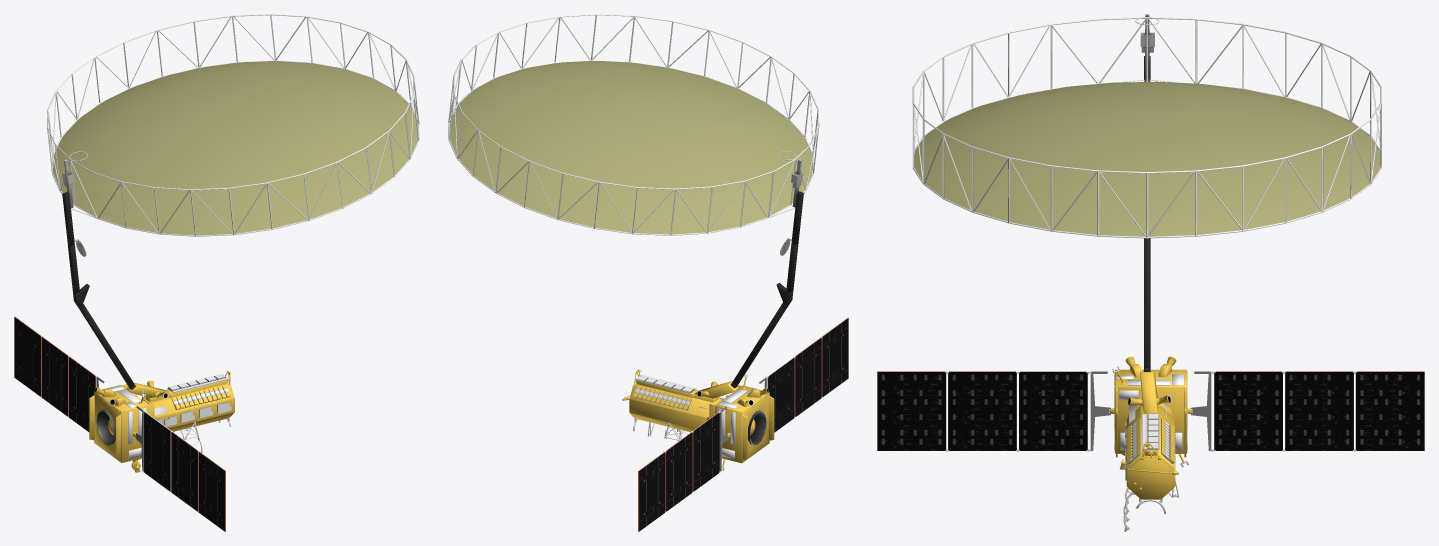
The model's file is nisar.glb.
3 renders of one model, left to right at view 1: azimuth 30°, elevation 25°; view 2: azimuth 150°, elevation 25°; view 3: azimuth 270°, elevation 25°, orthographic. The views are drawn at different scales.
Parts seen in each view (by area): view 1: antenna_mesh_bottom, Left_panel_1, antenna_railing, BUS, Arm, antenna_base, BUS_instruments, BUS.009; view 2: antenna_mesh_bottom, Left_panel_1, antenna_railing, BUS, Arm, antenna_base, BUS_instruments, BUS.009, Left_panel_2; view 3: antenna_mesh_bottom, BUS_instruments, antenna_railing, BUS, BUS.009, Arm.
Boxes of the visible parts, x1=… form: antenna_mesh_bottom: x1=53, y1=61, x2=418, y2=235; Left_panel_1: x1=14, y1=317, x2=225, y2=531; antenna_railing: x1=47, y1=14, x2=419, y2=377; BUS: x1=40, y1=335, x2=234, y2=512; Arm: x1=62, y1=192, x2=135, y2=389; antenna_base: x1=62, y1=159, x2=231, y2=445; BUS_instruments: x1=167, y1=374, x2=230, y2=410; BUS.009: x1=106, y1=385, x2=146, y2=458; antenna_mesh_bottom: x1=449, y1=61, x2=812, y2=234; Left_panel_1: x1=639, y1=318, x2=848, y2=531; antenna_railing: x1=448, y1=14, x2=819, y2=472; BUS: x1=622, y1=336, x2=822, y2=512; Arm: x1=730, y1=191, x2=803, y2=388; antenna_base: x1=748, y1=159, x2=803, y2=445; BUS_instruments: x1=633, y1=375, x2=696, y2=410; BUS.009: x1=717, y1=388, x2=758, y2=459; Left_panel_2: x1=638, y1=317, x2=848, y2=531; antenna_mesh_bottom: x1=914, y1=81, x2=1380, y2=236; BUS_instruments: x1=877, y1=371, x2=1424, y2=464; antenna_railing: x1=912, y1=17, x2=1381, y2=451; BUS: x1=945, y1=356, x2=1356, y2=531; BUS.009: x1=1114, y1=374, x2=1187, y2=450; Arm: x1=1144, y1=56, x2=1150, y2=371.
Size of the model in its own units: 13.04 by 13.96 by 14.29.
13 materials, 4 textured.
